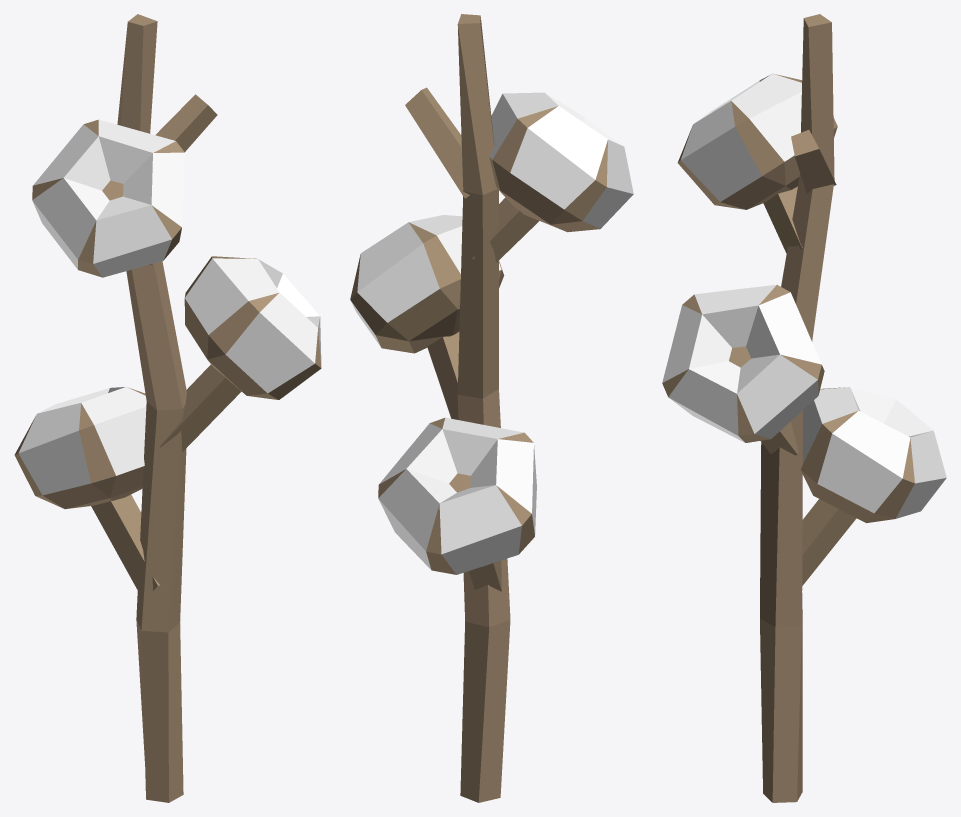
The model's file is cotton.glb.
The picture shows the model from 3 angles, left to right: view 1: azimuth 30°, elevation 25°; view 2: azimuth 150°, elevation 25°; view 3: azimuth 270°, elevation 25°; orthographic projection. The views are drawn at different scales.
Visible parts, largest first — view 1: cotton; view 2: cotton; view 3: cotton.
Boxes of the visible parts, left/top/right/bottom form: cotton: left=14, top=14, right=321, bottom=802; cotton: left=350, top=14, right=633, bottom=802; cotton: left=662, top=14, right=946, bottom=802.
Size of the model in its own units: 29.3 by 81.81 by 27.31.
